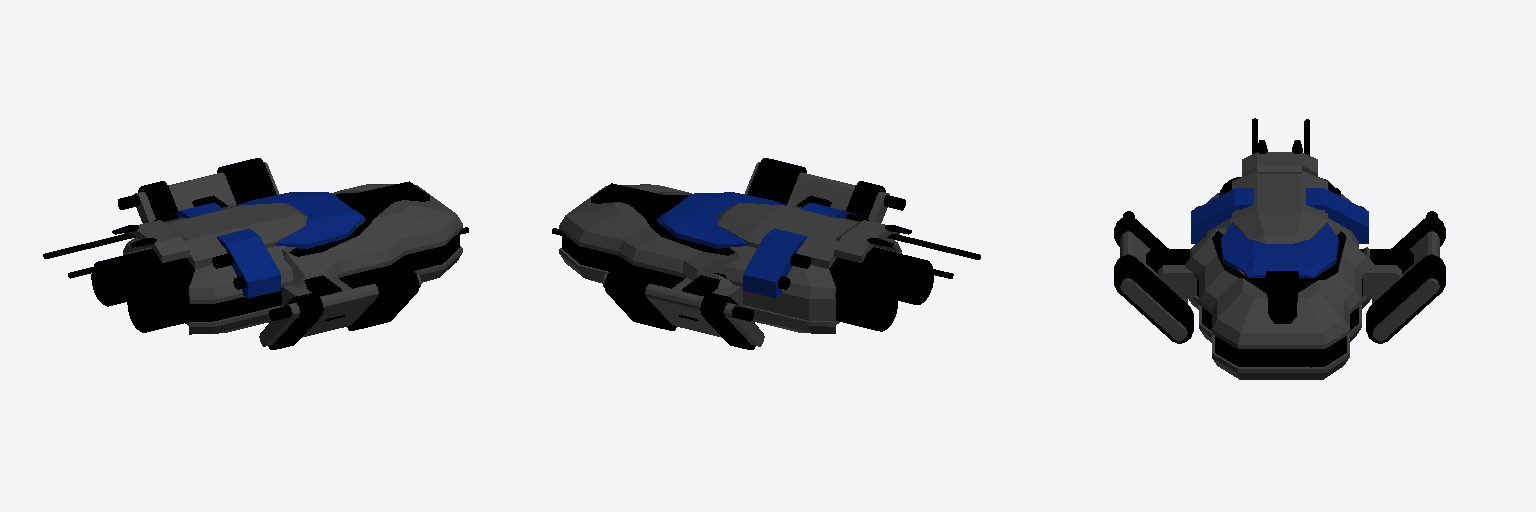
3 views of the same model, side by side, from view 1: azimuth 30°, elevation 25°; view 2: azimuth 150°, elevation 25°; view 3: azimuth 270°, elevation 25° (orthographic).
Parts seen in each view (by area): view 1: HumanShipA_Mesh; view 2: HumanShipA_Mesh; view 3: HumanShipA_Mesh.
Boxes of the visible parts, <box> form: HumanShipA_Mesh: <box>43,158,468,349</box>; HumanShipA_Mesh: <box>552,158,980,349</box>; HumanShipA_Mesh: <box>1114,118,1445,379</box>.
Size of the model in its own units: 6.56 by 1.59 by 4.73.